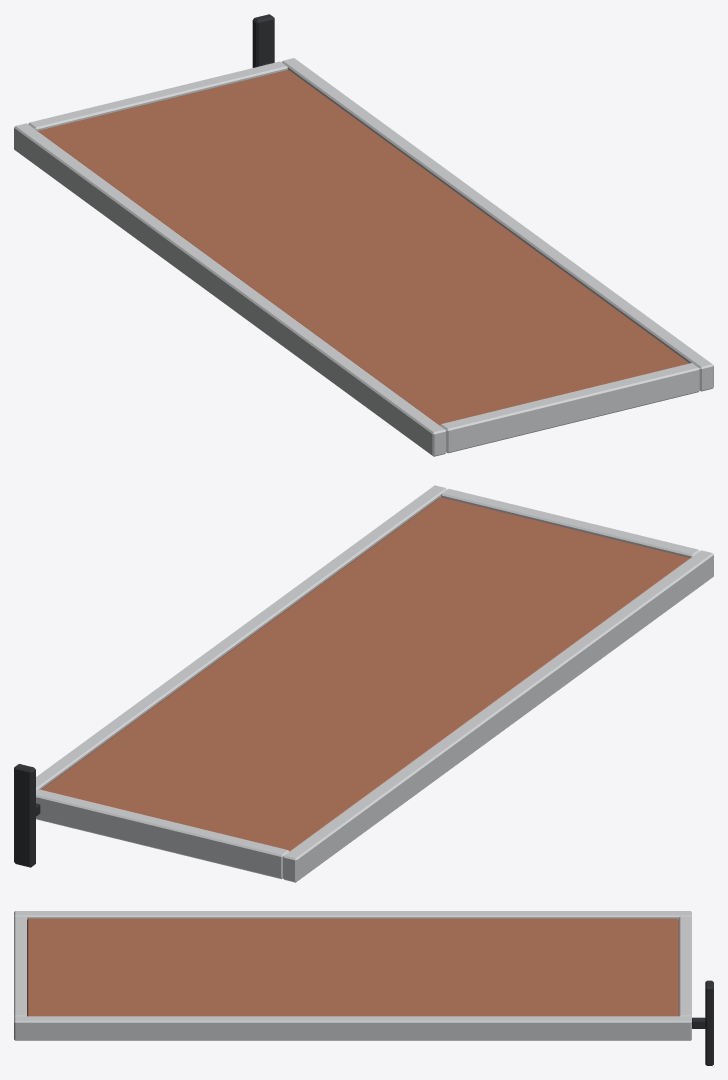
File: folding_partition_screen_right_panel.glb
3 views of the same model, one above another, from view 1: azimuth 30°, elevation 25°; view 2: azimuth 150°, elevation 25°; view 3: azimuth 270°, elevation 25° (orthographic). The views are drawn at different scales.
Visible parts, largest first — view 1: export_tmp; view 2: export_tmp; view 3: export_tmp.
Boxes of the visible parts, left/top/right/bottom form: export_tmp: left=14, top=14, right=713, bottom=456; export_tmp: left=14, top=485, right=713, bottom=882; export_tmp: left=14, top=911, right=713, bottom=1065.
Bounding box in the file's own units: 0.6 × 0.2 × 1.6.
